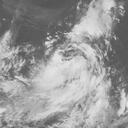cyclone: (32, 50, 99, 112)
